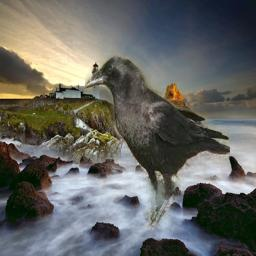Crow: (85, 55, 230, 230)
